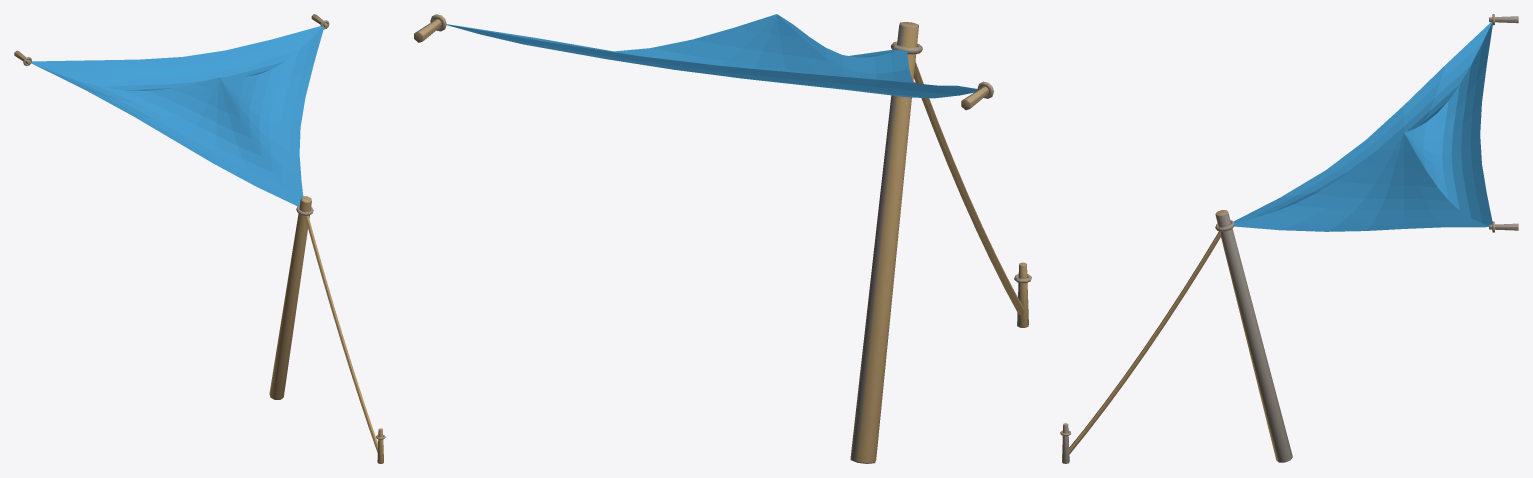
The model's file is nomad_sail_wall_spur.fbx.
3 views of the same model, side by side, from view 1: azimuth 30°, elevation 25°; view 2: azimuth 150°, elevation 25°; view 3: azimuth 270°, elevation 25° (orthographic). The views are drawn at different scales.
Visible parts, largest first — view 1: S18_Canopy, S18_Mast_SailRig_MastStub, S18_Guy; view 2: S18_Canopy, S18_Mast_SailRig_MastStub, S18_Guy, S18_Anchor_SailRig_AnchorStake; view 3: S18_Canopy, S18_Mast_SailRig_MastStub, S18_Guy.
Part boxes in pixels (x1=…): S18_Canopy: x1=31, y1=25, x2=324, y2=206; S18_Mast_SailRig_MastStub: x1=269, y1=196, x2=313, y2=399; S18_Guy: x1=305, y1=216, x2=377, y2=452; S18_Canopy: x1=446, y1=14, x2=977, y2=98; S18_Mast_SailRig_MastStub: x1=850, y1=22, x2=922, y2=463; S18_Guy: x1=914, y1=62, x2=1024, y2=315; S18_Anchor_SailRig_AnchorStake: x1=1014, y1=262, x2=1031, y2=327; S18_Canopy: x1=1233, y1=22, x2=1492, y2=231; S18_Mast_SailRig_MastStub: x1=1215, y1=210, x2=1292, y2=462; S18_Guy: x1=1068, y1=231, x2=1221, y2=454.
Size of the model in its own units: 268 by 261 by 303.
